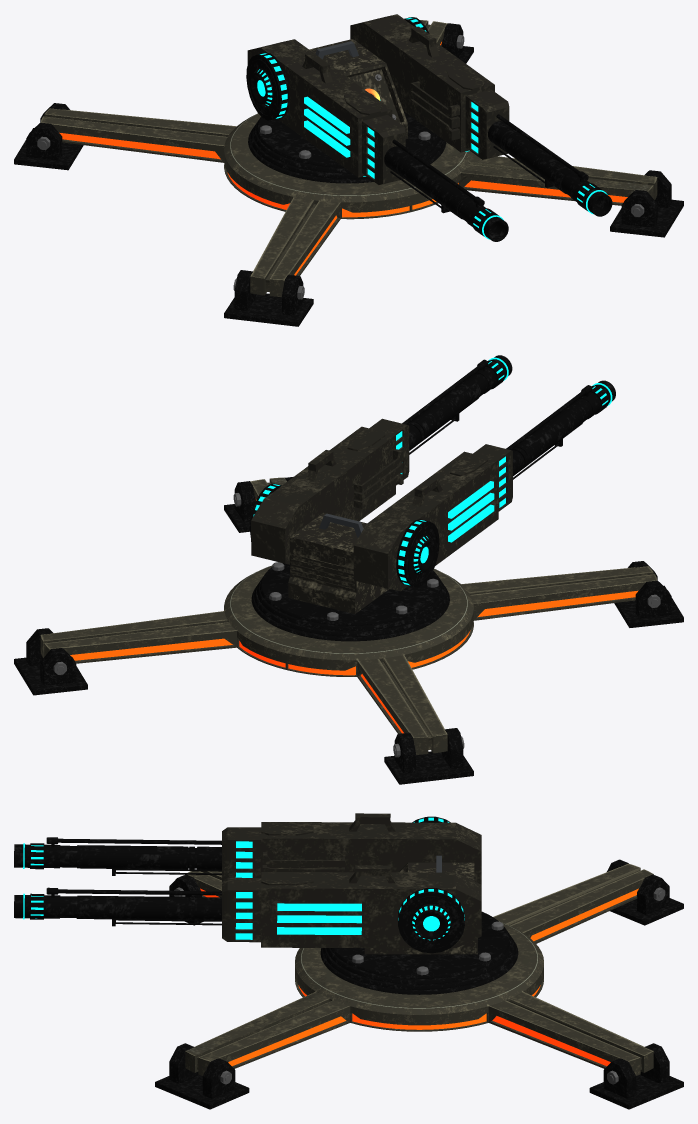
File: canon.glb
3 views of the same model, one above another, from view 1: azimuth 30°, elevation 25°; view 2: azimuth 150°, elevation 25°; view 3: azimuth 270°, elevation 25° (orthographic).
Parts seen in each view (by area): view 1: Circle_primitive0, Cylinder.002_primitive1, Cylinder.002_primitive0, Circle.003_primitive0, Circle_primitive1, Plane.002_primitive0, Cylinder.002_primitive2, Plane.001_primitive0, letos)_center_primitive1, Plane.004_primitive0, Plane.005_primitive0; view 2: Circle_primitive0, Cylinder.002_primitive1, Cylinder.002_primitive0, Circle.003_primitive0, letos)_center_primitive1, Circle_primitive1, Plane.004_primitive0, Plane.005_primitive0, Cylinder.002_primitive2, Plane.002_primitive0, Plane.001_primitive0; view 3: Cylinder.002_primitive1, Circle_primitive0, Cylinder.002_primitive0, Circle.003_primitive0, Cylinder.002_primitive2, Circle_primitive1, Plane.001_primitive0, Plane.005_primitive0, Plane.004_primitive0, letos)_center_primitive1, Plane.002_primitive0.
Boxes of the visible parts, x1=… form: Circle_primitive0: x1=40, y1=20, x2=657, y2=296; Cylinder.002_primitive1: x1=247, y1=14, x2=509, y2=184; Cylinder.002_primitive0: x1=246, y1=17, x2=612, y2=241; Circle.003_primitive0: x1=248, y1=111, x2=446, y2=183; Circle_primitive1: x1=59, y1=42, x2=627, y2=275; Plane.002_primitive0: x1=224, y1=270, x2=313, y2=326; Cylinder.002_primitive2: x1=257, y1=17, x2=607, y2=239; Plane.001_primitive0: x1=610, y1=170, x2=683, y2=237; letos)_center_primitive1: x1=309, y1=39, x2=407, y2=138; Plane.004_primitive0: x1=14, y1=103, x2=83, y2=170; Plane.005_primitive0: x1=441, y1=23, x2=473, y2=63; Circle_primitive0: x1=40, y1=477, x2=657, y2=754; Cylinder.002_primitive1: x1=251, y1=418, x2=512, y2=591; Cylinder.002_primitive0: x1=250, y1=355, x2=615, y2=587; Circle.003_primitive0: x1=251, y1=563, x2=449, y2=641; letos)_center_primitive1: x1=288, y1=512, x2=388, y2=613; Circle_primitive1: x1=70, y1=499, x2=638, y2=733; Plane.004_primitive0: x1=384, y1=728, x2=473, y2=784; Plane.005_primitive0: x1=14, y1=628, x2=87, y2=695; Cylinder.002_primitive2: x1=253, y1=357, x2=612, y2=585; Plane.002_primitive0: x1=614, y1=561, x2=683, y2=627; Plane.001_primitive0: x1=224, y1=477, x2=292, y2=532; Cylinder.002_primitive1: x1=222, y1=813, x2=481, y2=948; Circle_primitive0: x1=185, y1=863, x2=653, y2=1075; Cylinder.002_primitive0: x1=14, y1=816, x2=464, y2=953; Circle.003_primitive0: x1=320, y1=911, x2=518, y2=994; Cylinder.002_primitive2: x1=23, y1=817, x2=464, y2=940; Circle_primitive1: x1=200, y1=888, x2=638, y2=1066; Plane.001_primitive0: x1=155, y1=1043, x2=249, y2=1109; Plane.005_primitive0: x1=589, y1=1043, x2=683, y2=1109; Plane.004_primitive0: x1=607, y1=859, x2=683, y2=925; letos)_center_primitive1: x1=364, y1=862, x2=477, y2=954; Plane.002_primitive0: x1=169, y1=874, x2=203, y2=925.
Size of what is drawn, in the model's own units: 7.85 by 2.55 by 9.94.
Materials: 14 (9 with a texture image).
